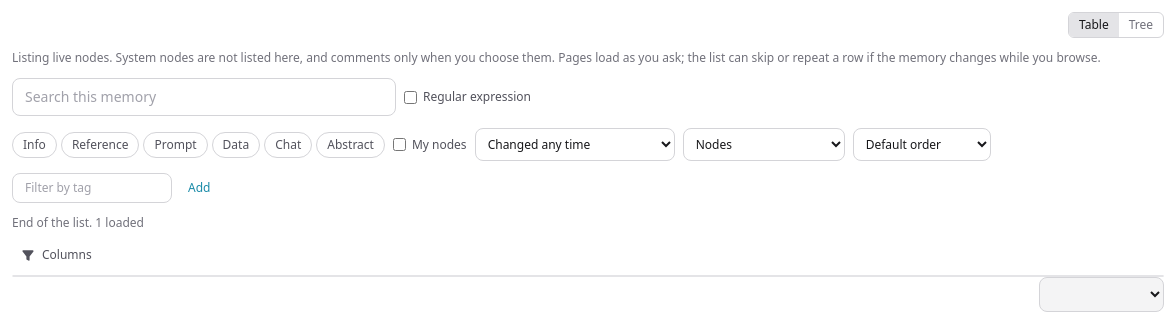
Scenario: content search (#2693) › a search with no hit says it searched the whole memory
Type "nothing" into the search field with test id "nodes-search".
click(204, 97); type("nothing")  # box [12,78,396,116]
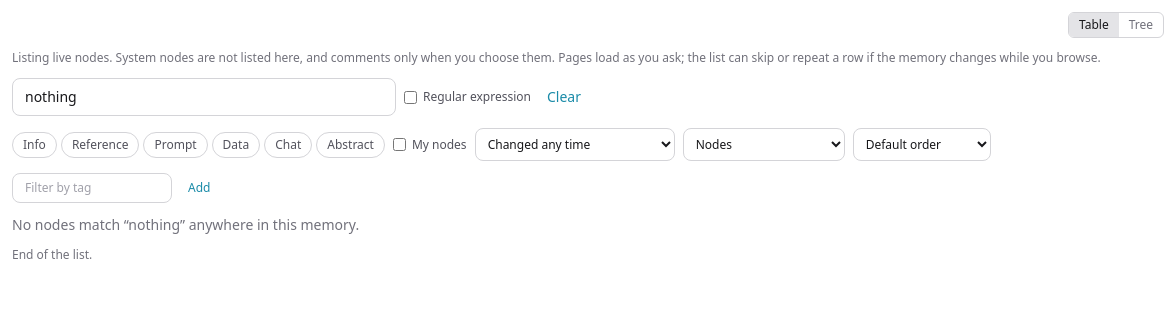
Check: the text "No nodes match “nothing” anywhere in this memory" is shown, box [12,215,359,234]
